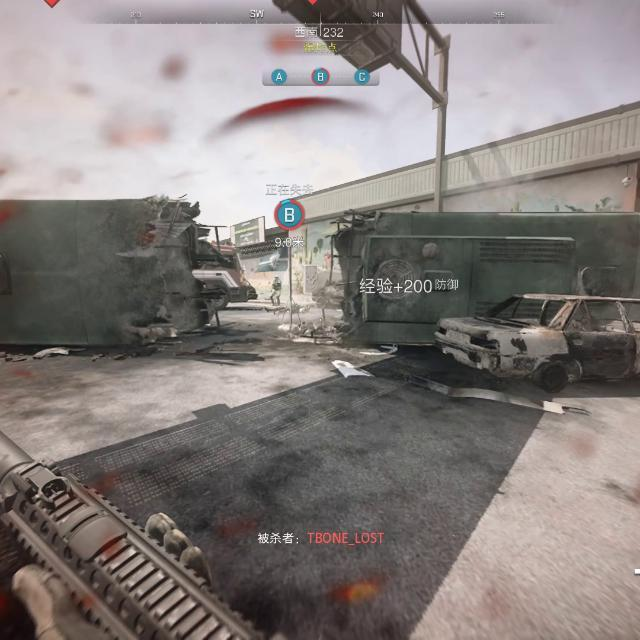MW2_body: (270, 275, 283, 305)
